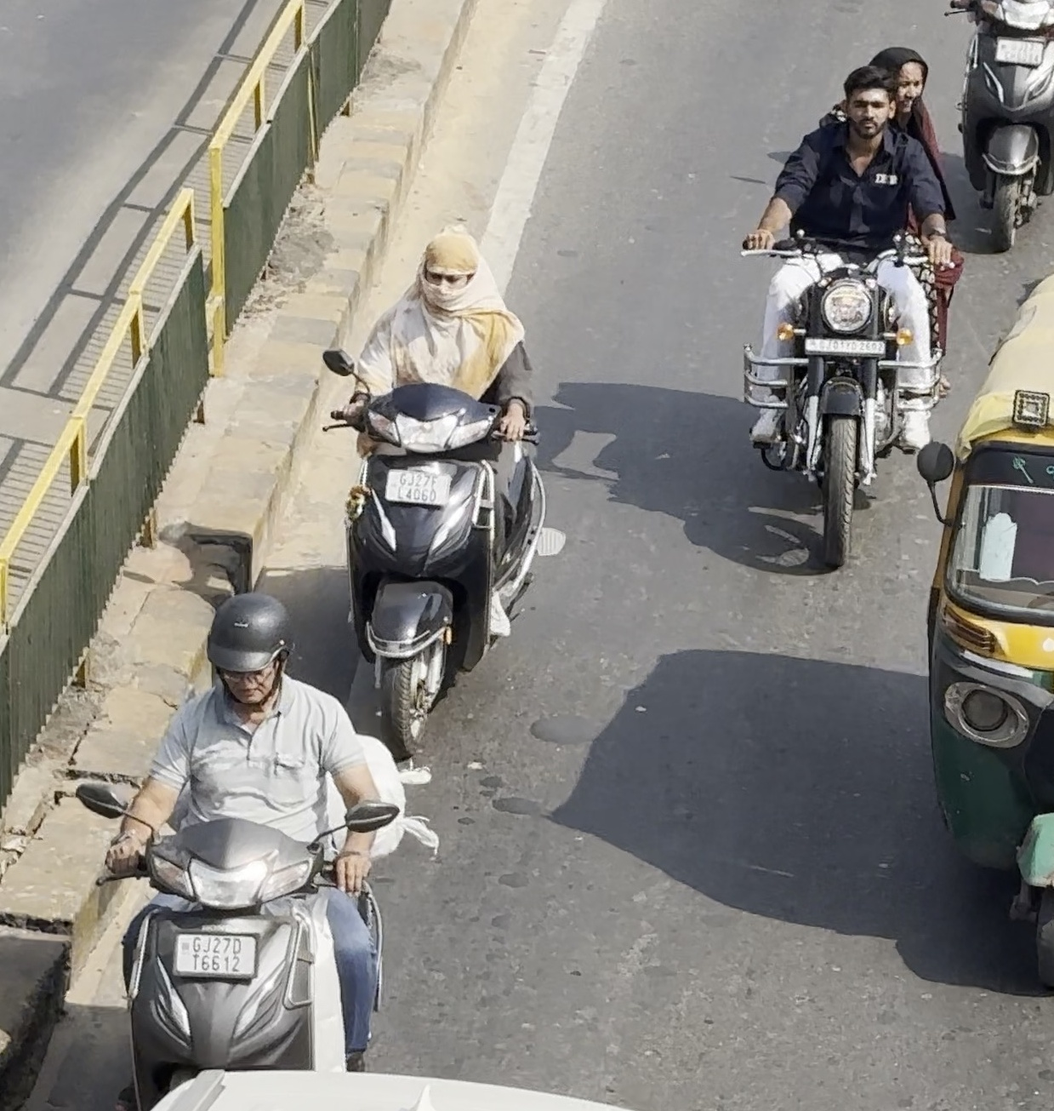BikeWithRider: (58, 581, 447, 1111), (308, 218, 574, 769), (726, 49, 975, 580)
Helmet: (191, 581, 308, 719)
NoHelmet: (399, 223, 502, 320), (862, 39, 937, 130), (827, 60, 905, 147)
